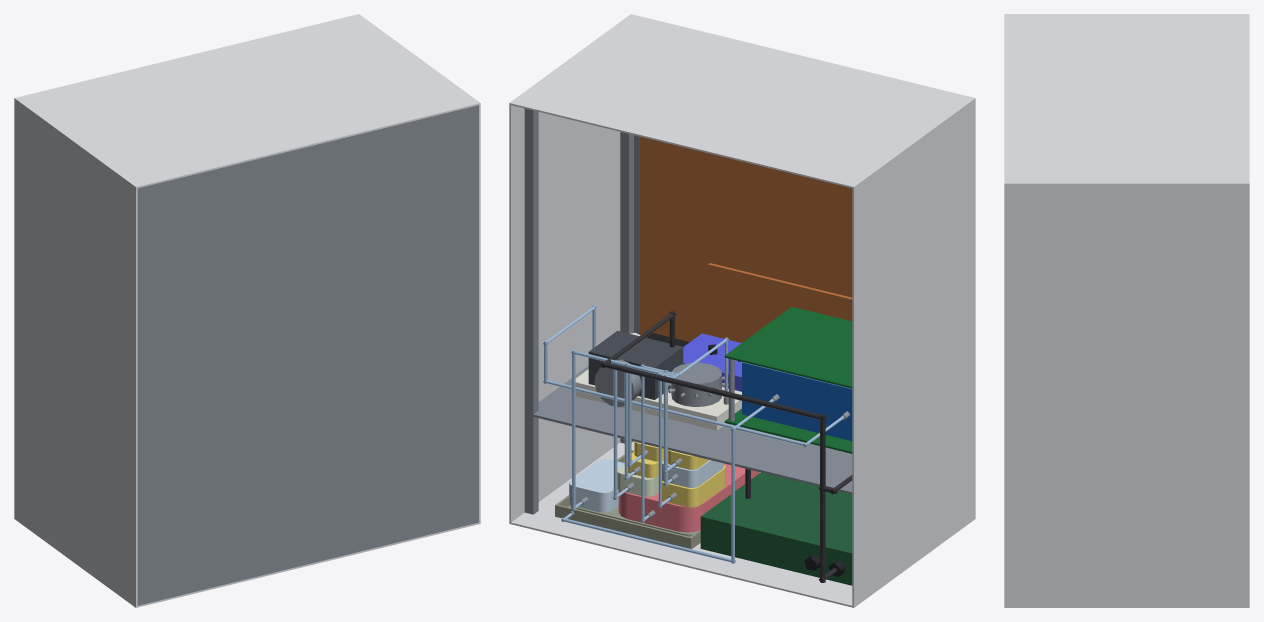
File: MOD-antibiotic-resistance.glb
3 views of the same model, side by side, from view 1: azimuth 30°, elevation 25°; view 2: azimuth 150°, elevation 25°; view 3: azimuth 270°, elevation 25° (orthographic).
Visible parts, largest first — view 1: housing__back_panel_bay_interface, housing__side_panel_L, housing__top_panel, housing__bottom_panel, housing__side_panel_R; view 2: housing__side_panel_L, housing__top_panel, housing__side_panel_R, thermal__cold_wall_to_the_bay_s_thermoelectric_block, electronics__controller_enclosure_boards_data_storage, housing__shelf_1, housing__bottom_panel, imaging__LED_board_24_LEDs_at_570_and_600_nm, thermal__heat_spreader, housing__corner_post_4, sample__cassette_24_wells_SBS_footprint_19_3_mm_pitch, fluid__medium_150_mL (+18 smaller); view 3: housing__side_panel_R, housing__top_panel, housing__bottom_panel.
Boxes of the visible parts, x1=… form: housing__back_panel_bay_interface: x1=137, y1=105, x2=478, y2=605; housing__side_panel_L: x1=14, y1=100, x2=137, y2=605; housing__top_panel: x1=14, y1=14, x2=480, y2=188; housing__bottom_panel: x1=14, y1=517, x2=480, y2=607; housing__side_panel_R: x1=479, y1=105, x2=480, y2=522; housing__side_panel_L: x1=852, y1=100, x2=975, y2=605; housing__top_panel: x1=509, y1=14, x2=975, y2=188; housing__side_panel_R: x1=509, y1=105, x2=620, y2=522; thermal__cold_wall_to_the_bay_s_thermoelectric_block: x1=640, y1=136, x2=852, y2=341; electronics__controller_enclosure_boards_data_storage: x1=700, y1=472, x2=852, y2=585; housing__shelf_1: x1=524, y1=366, x2=852, y2=494; housing__bottom_panel: x1=509, y1=441, x2=975, y2=607; imaging__LED_board_24_LEDs_at_570_and_600_nm: x1=724, y1=306, x2=852, y2=388; thermal__heat_spreader: x1=708, y1=263, x2=852, y2=342; housing__corner_post_4: x1=524, y1=108, x2=538, y2=514; sample__cassette_24_wells_SBS_footprint_19_3_mm_pitch: x1=742, y1=362, x2=852, y2=440; fluid__medium_150_mL: x1=618, y1=463, x2=759, y2=532; housing__side_panel_R: x1=1004, y1=185, x2=1249, y2=606; housing__top_panel: x1=1004, y1=14, x2=1249, y2=185; housing__bottom_panel: x1=1004, y1=606, x2=1249, y2=607.
Size of the model in its own units: 0.313 by 0.3652 by 0.1913.
